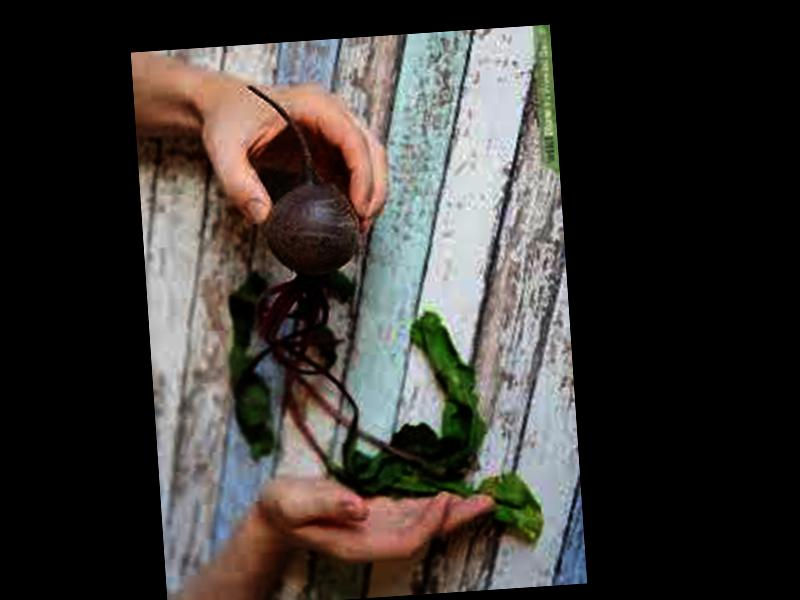Beet: (213, 67, 543, 560)
